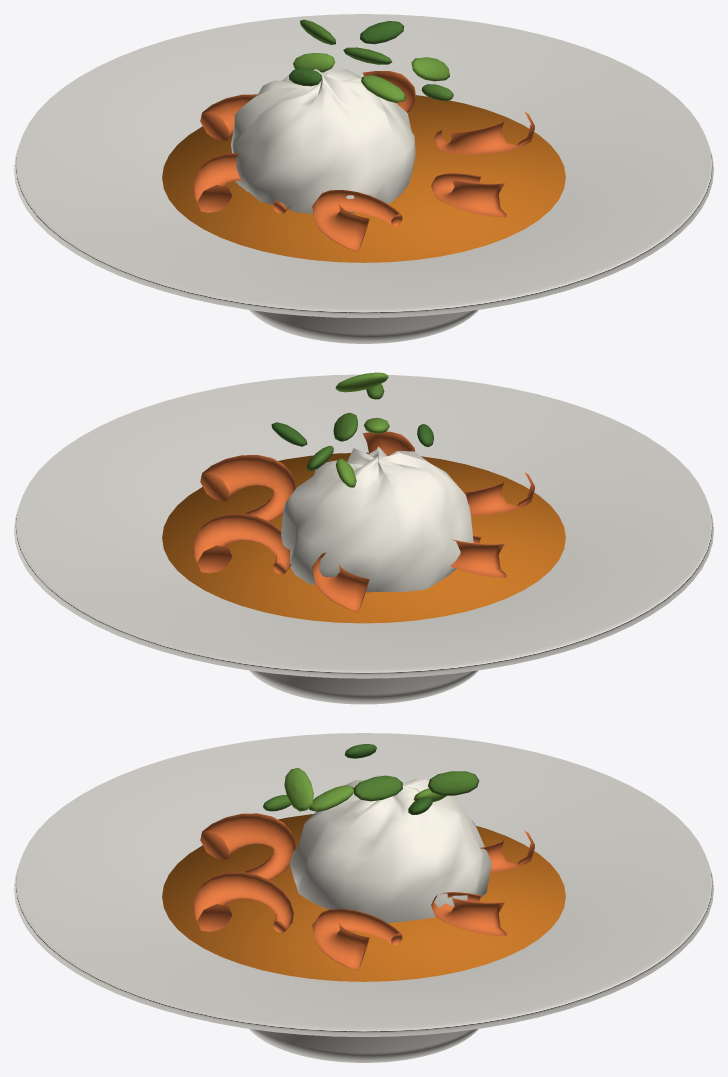
The model's file is executivo-camarao-curry.glb.
The picture shows the model from 3 angles, top to bottom: view 1: azimuth 30°, elevation 25°; view 2: azimuth 150°, elevation 25°; view 3: azimuth 270°, elevation 25°; orthographic projection.
Parts seen in each view (by area): view 1: executivo-camarao-curry; view 2: executivo-camarao-curry; view 3: executivo-camarao-curry.
Boxes of the visible parts, x1=… form: executivo-camarao-curry: x1=14, y1=14, x2=713, y2=343; executivo-camarao-curry: x1=14, y1=372, x2=713, y2=704; executivo-camarao-curry: x1=14, y1=733, x2=713, y2=1062.
Size of the model in its own units: 0.26 by 0.1029 by 0.26.
